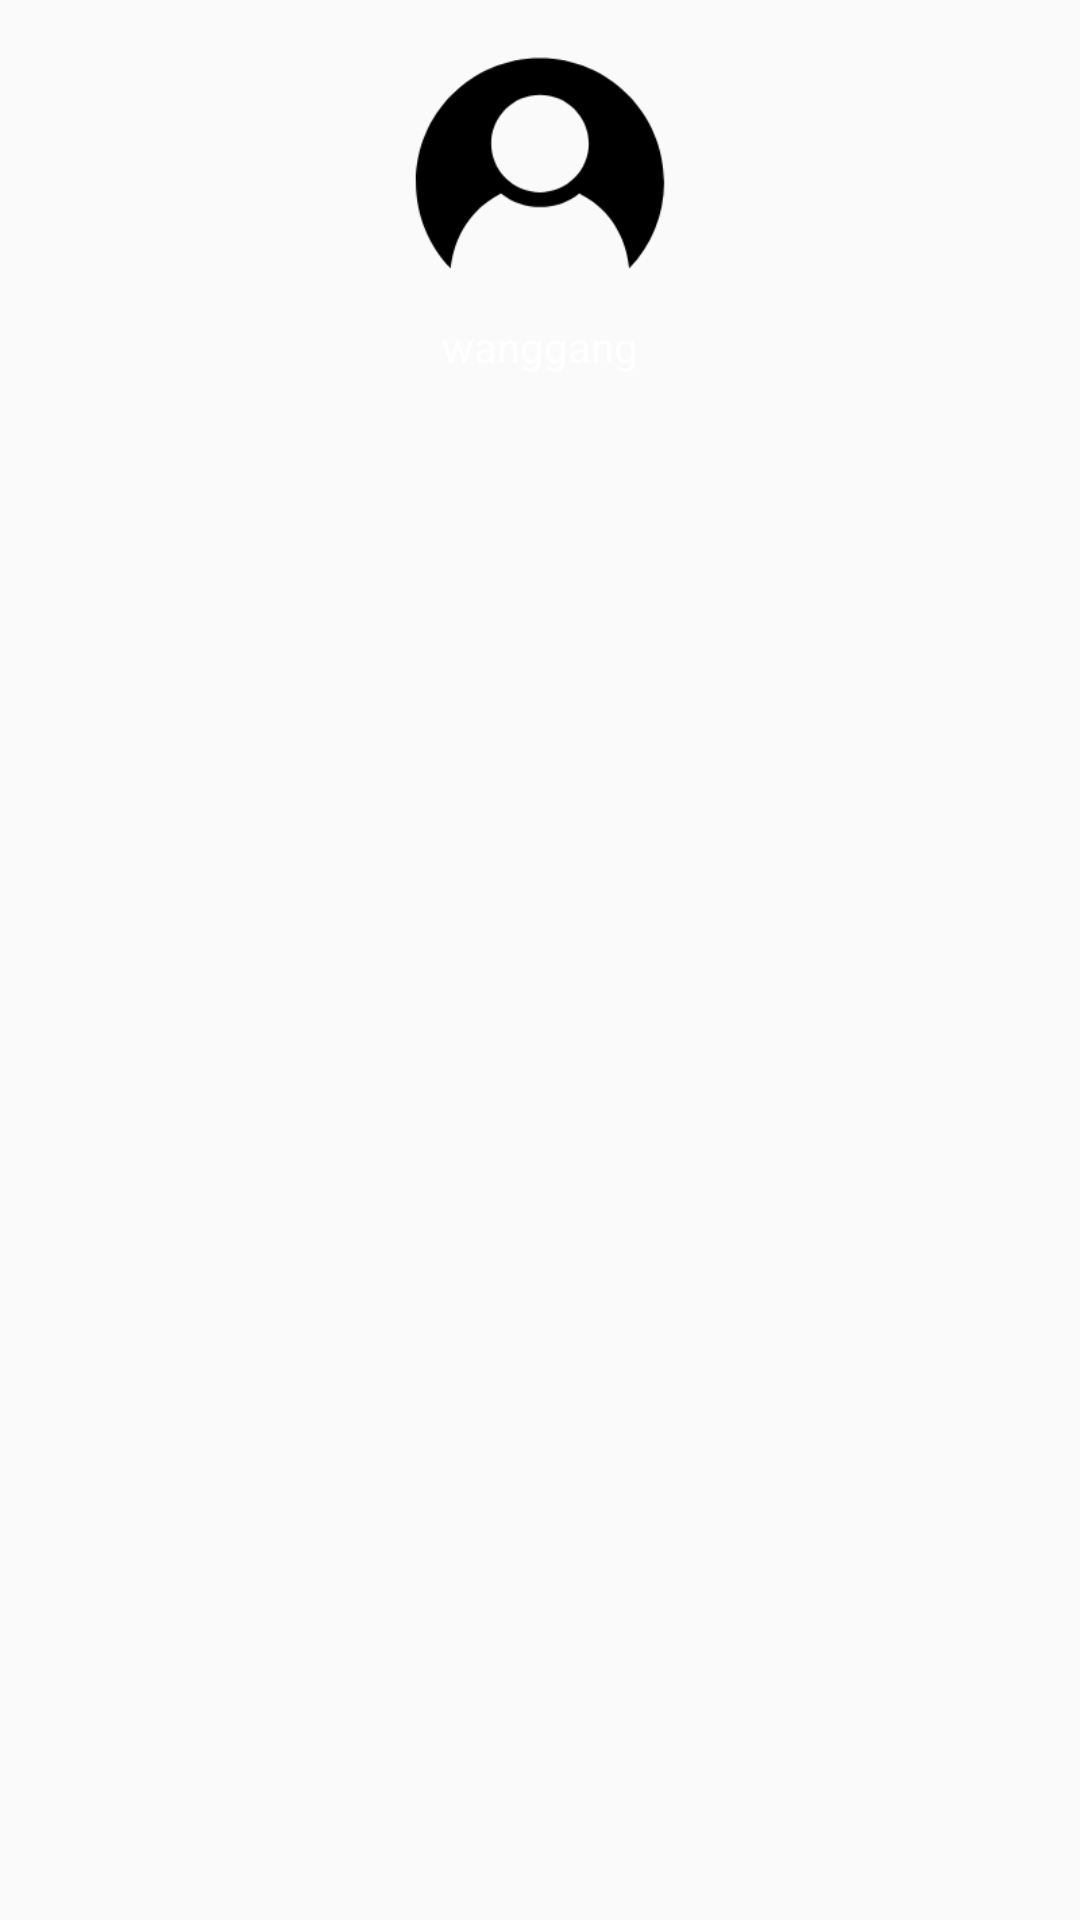

Named icons in this screenshot (1080×1920) and their bounding boxes, {"left": x1, "top": y1, "right": x2, "bottom": y2}:
person: {"left": 415, "top": 57, "right": 665, "bottom": 269}
